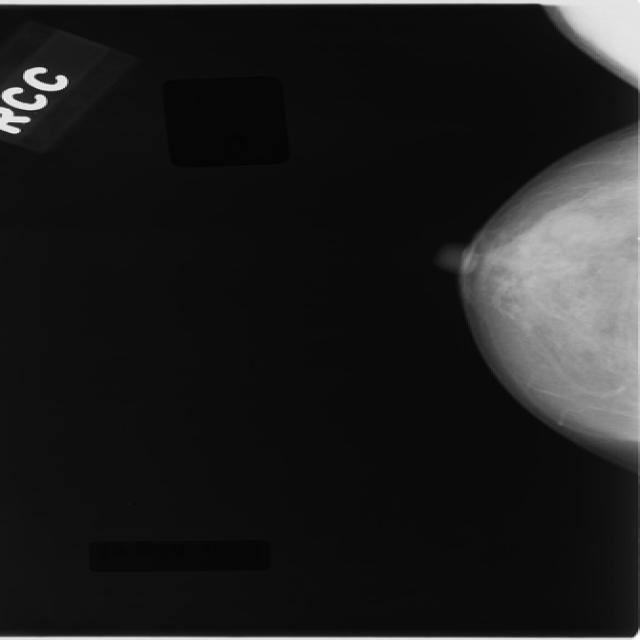tumour: (546, 211, 594, 242)
